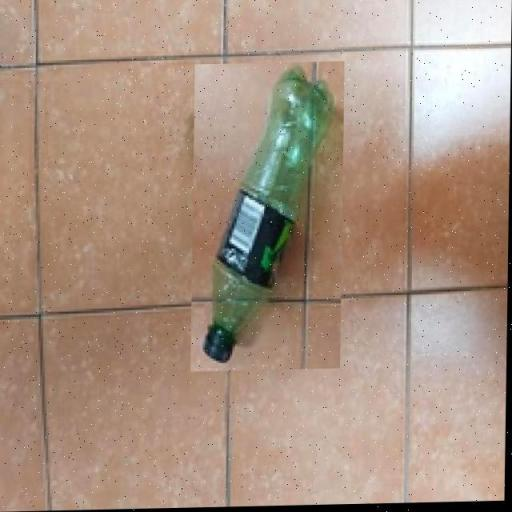plastic: (204, 68, 334, 366)
